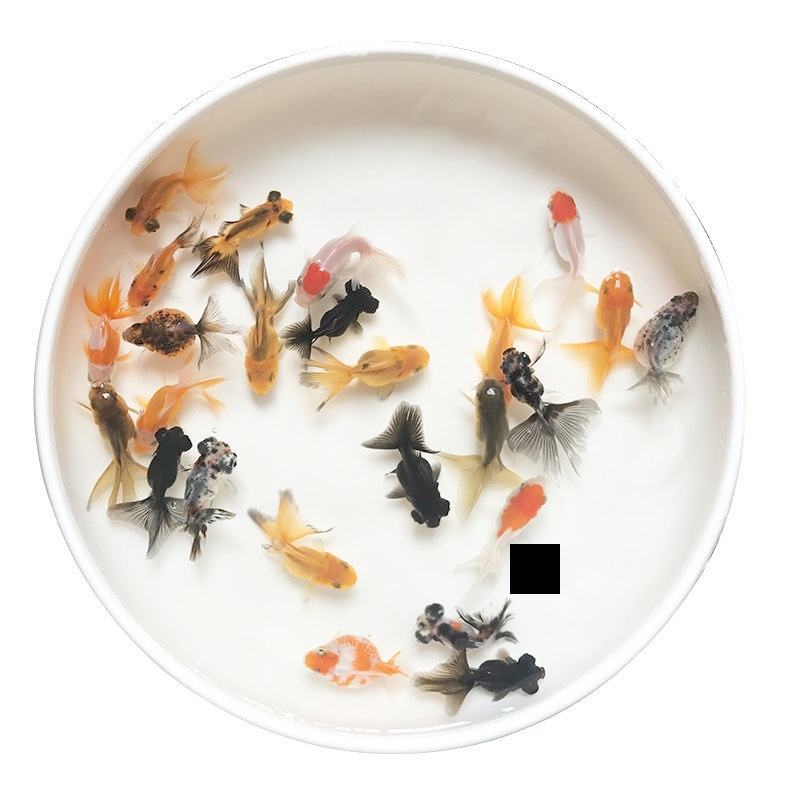fry: (366, 409, 459, 538), (253, 497, 363, 603), (293, 614, 407, 703), (634, 273, 710, 397), (399, 583, 523, 657), (181, 420, 248, 548), (529, 177, 603, 292), (416, 646, 554, 704), (283, 220, 375, 304), (457, 291, 530, 391), (234, 267, 288, 399), (140, 410, 196, 536), (318, 339, 439, 397), (196, 185, 289, 257), (63, 378, 139, 466), (492, 462, 562, 555), (121, 304, 233, 362), (122, 379, 217, 439), (295, 279, 384, 343), (109, 166, 183, 239), (589, 261, 637, 373), (499, 339, 565, 419), (465, 377, 518, 472), (106, 249, 178, 310), (80, 316, 121, 386)
